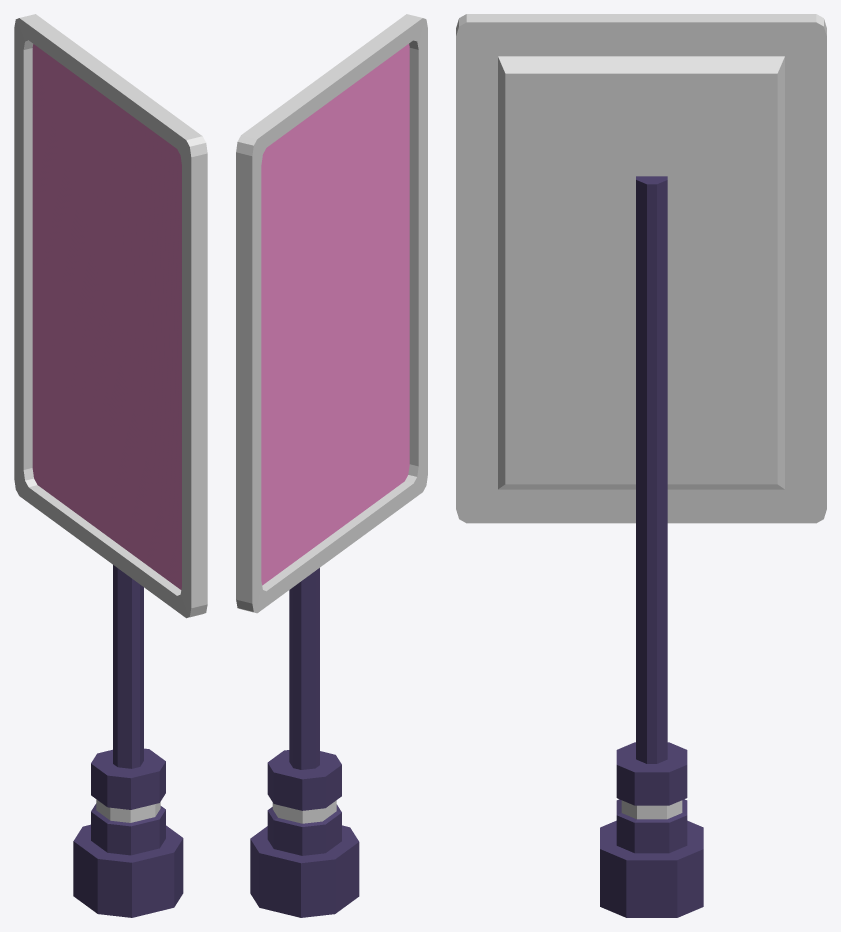
The model's file is affiche_sur_pied.fbx.
3 renders of one model, left to right at view 1: azimuth 30°, elevation 25°; view 2: azimuth 150°, elevation 25°; view 3: azimuth 270°, elevation 25°, orthographic. The views are drawn at different scales.
Visible parts, largest first — view 1: Cube.005, Cube.008, Cube.006; view 2: Cube.005, Cube.008, Cube.006; view 3: Cube.005, Cube.006, Cube.008.
Part boxes in pixels (left/top/right/bottom): Cube.005: left=14, top=14, right=207, bottom=618; Cube.008: left=73, top=748, right=183, bottom=917; Cube.006: left=113, top=565, right=143, bottom=768; Cube.005: left=236, top=14, right=427, bottom=613; Cube.008: left=250, top=750, right=359, bottom=917; Cube.006: left=289, top=568, right=319, bottom=769; Cube.005: left=456, top=14, right=826, bottom=523; Cube.006: left=636, top=176, right=667, bottom=763; Cube.008: left=600, top=742, right=703, bottom=917.
Bounding box in the file's own units: 37.49 × 346 × 134.
